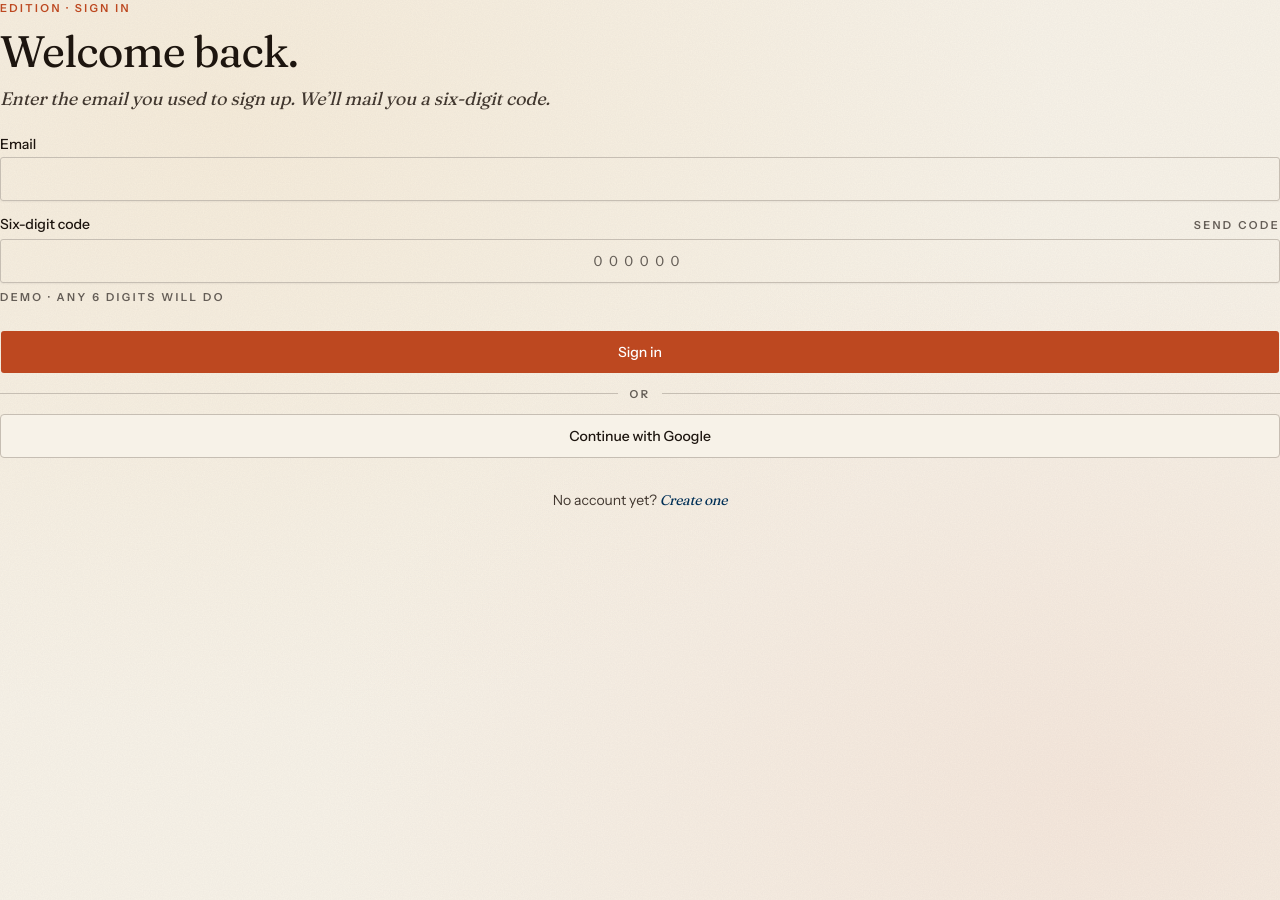
Test: AuthForm — Google button › shows the friendly cosmetic note in auth-error when clicked
Click the button "Continue with Google". click: point(640, 436)
box: [0, 414, 1279, 458]
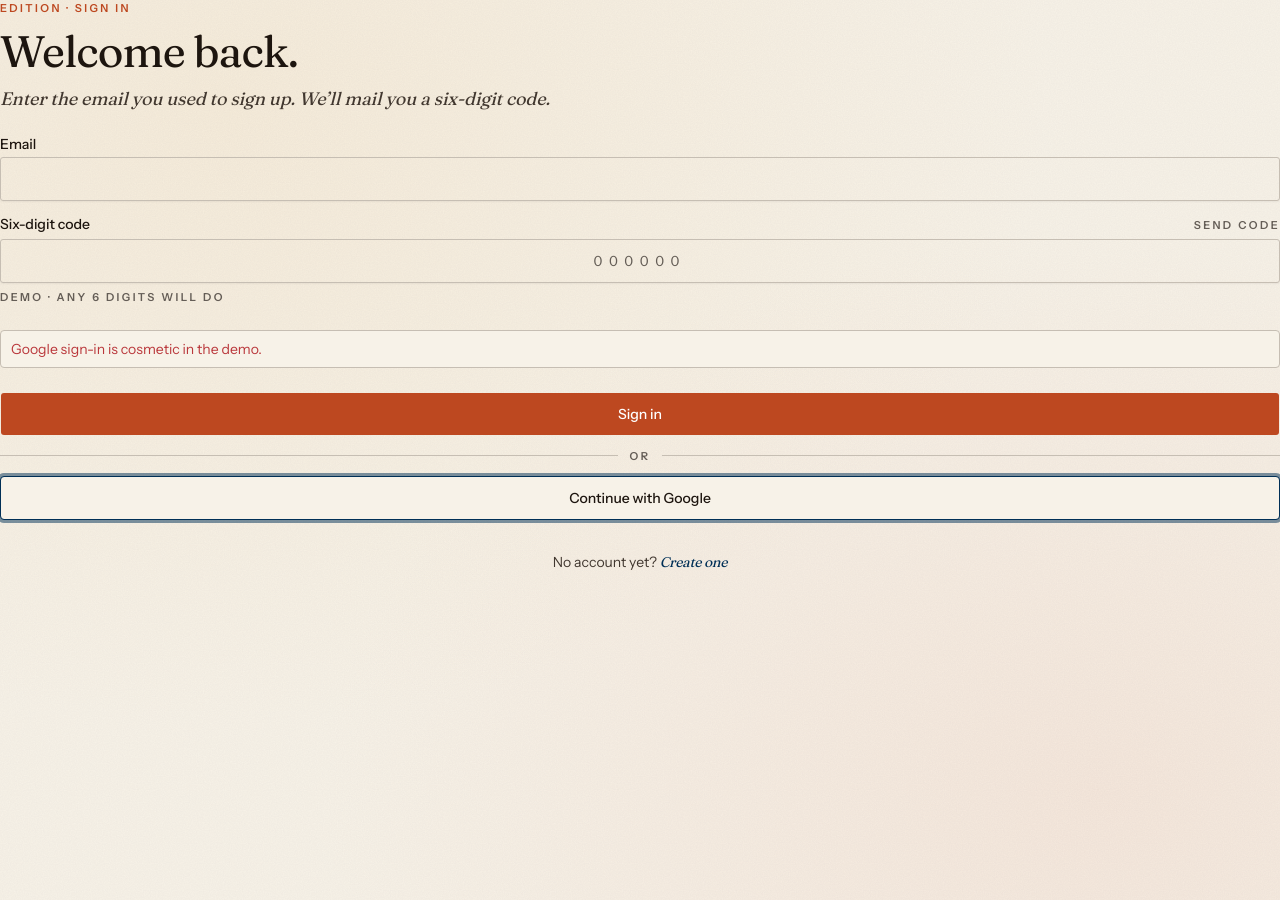
Now the message "Google sign-in is cosmetic in the demo." is shown, box [0, 330, 1279, 368]
